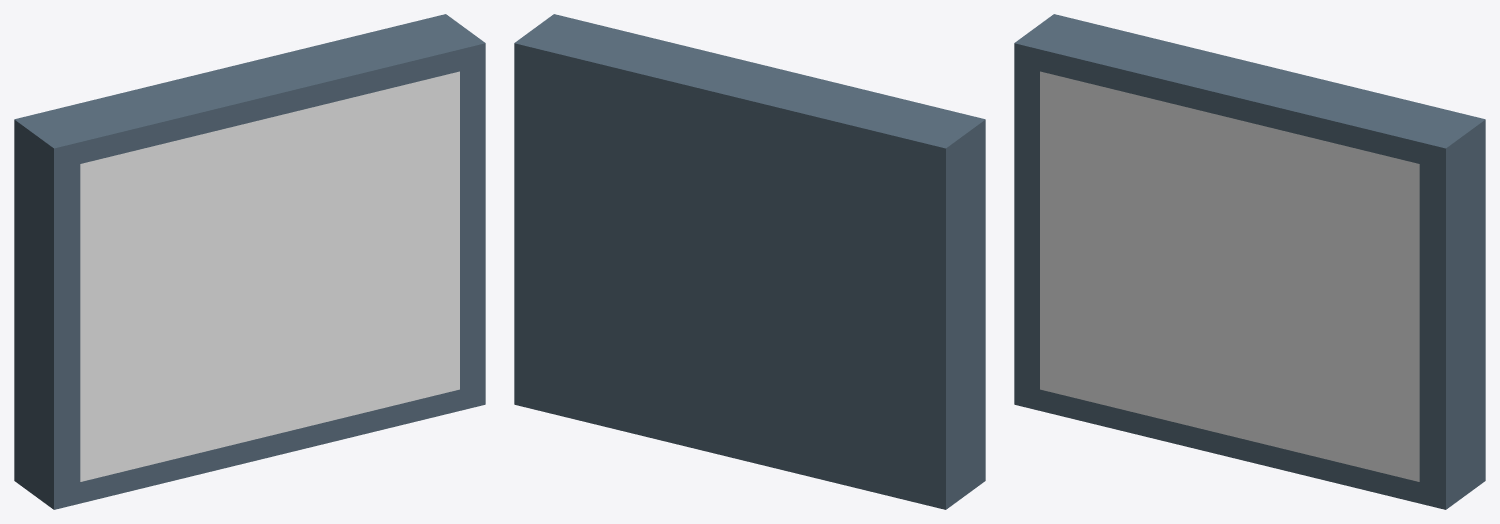
File: cartridge.glb
3 renders of one model, left to right at view 1: azimuth 30°, elevation 25°; view 2: azimuth 150°, elevation 25°; view 3: azimuth 330°, elevation 25°, orthographic.
Visible parts, largest first — view 1: artwork_front, shell; view 2: shell; view 3: artwork_front, shell.
Boxes of the visible parts, x1,y1,x2,y2 form: artwork_front: [80, 71, 459, 481]; shell: [14, 14, 485, 509]; shell: [514, 14, 985, 509]; artwork_front: [1040, 71, 1419, 481]; shell: [1014, 14, 1485, 509].
Size of the model in its own units: 1 by 0.8 by 0.161.
Materials: 2 (1 with a texture image).
